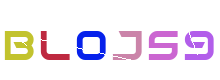0: (51, 0, 131, 80)
9: (138, 0, 218, 80)
B: (0, 0, 80, 80)
J: (69, 0, 149, 80)
L: (10, 0, 90, 80)
S: (86, 0, 166, 80)
